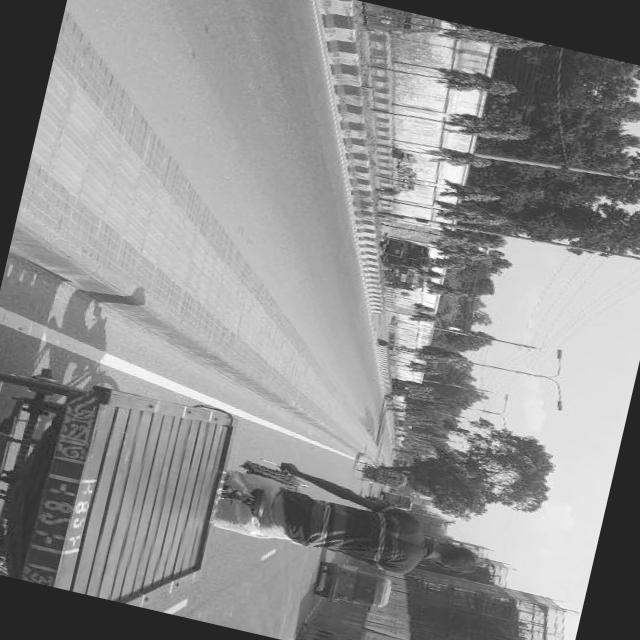bus: (379, 488, 416, 511)
motorcycle: (315, 556, 396, 612), (351, 458, 411, 490)
truck: (378, 234, 436, 294)
